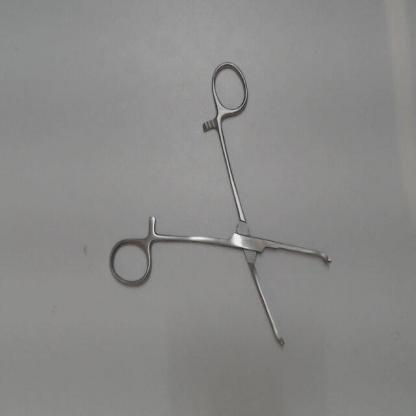Allis Tissue Forceps: (102, 53, 343, 360)
